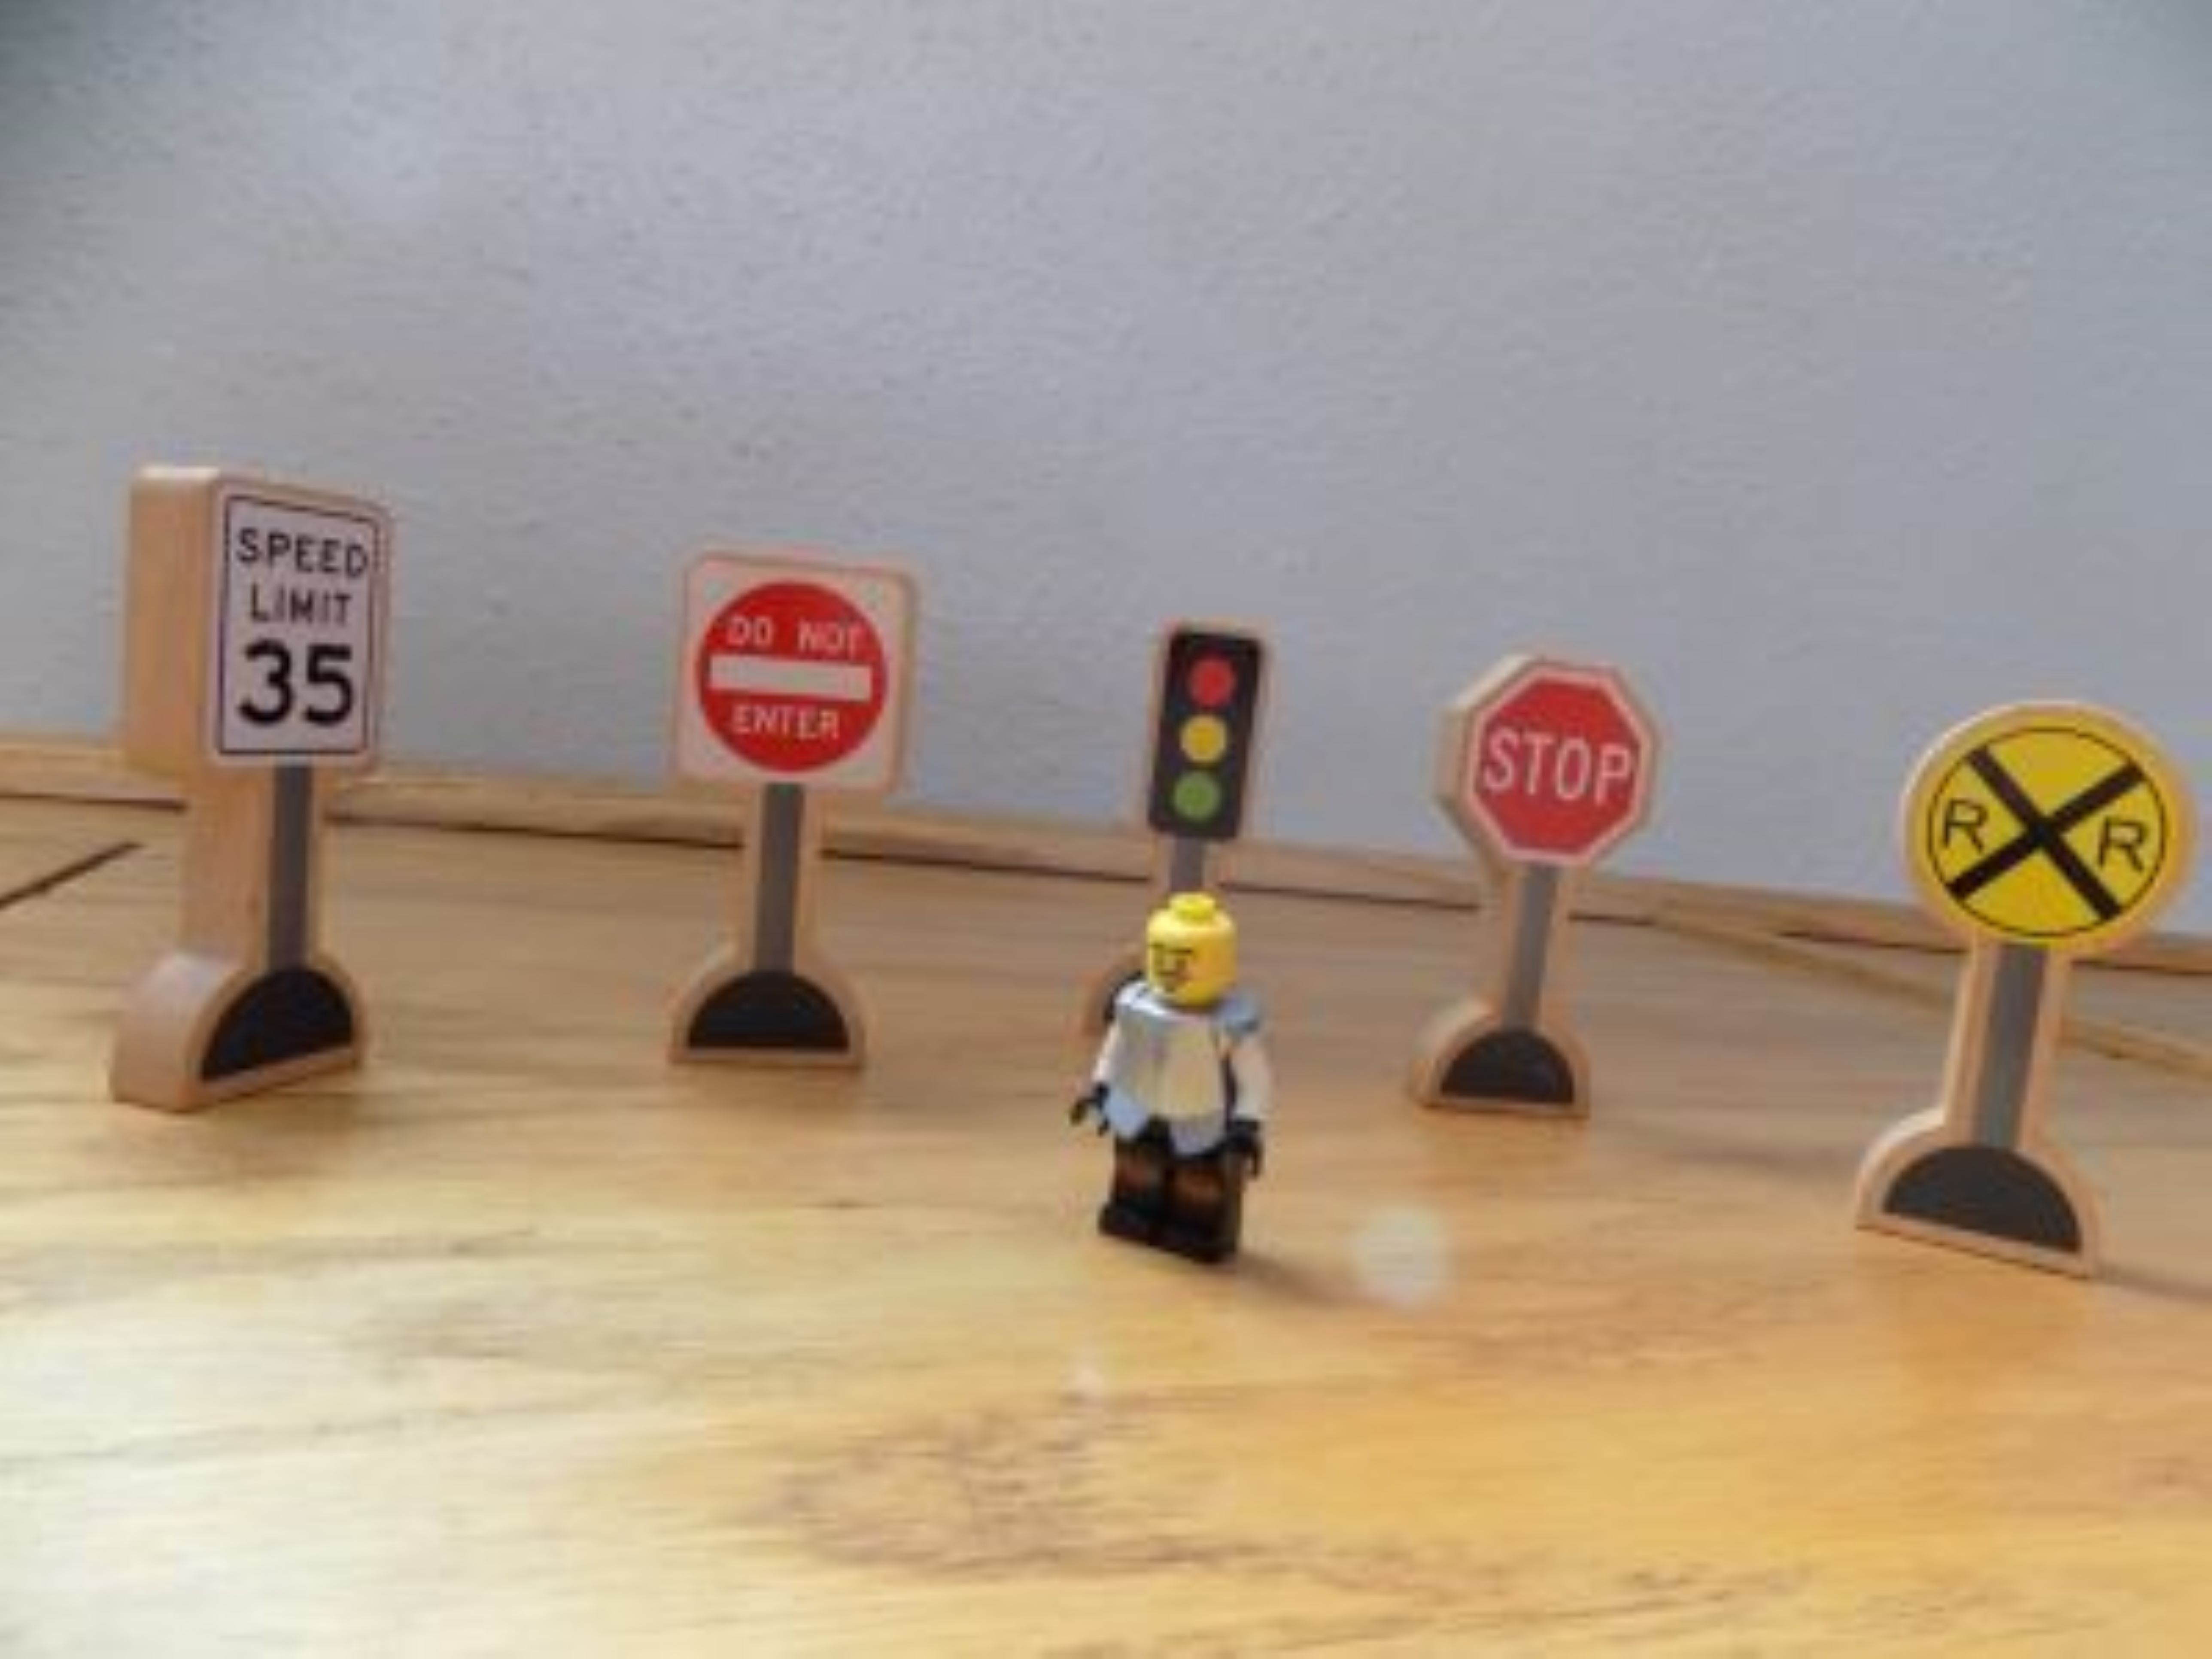Do Not Enter: (676, 539, 918, 802)
Person: (1083, 902, 1265, 1271)
Rail Road Sign: (1893, 689, 2196, 974)
Red Traffic Light: (1157, 625, 1258, 850)
Speed Limit 35: (114, 455, 391, 824)
Stop Sign: (1440, 651, 1660, 891)
